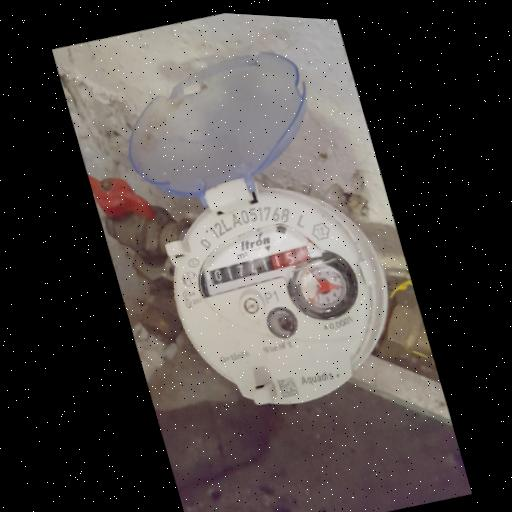0: (208, 266, 227, 287)
1: (268, 251, 286, 271), (257, 253, 274, 273), (294, 244, 311, 264), (222, 263, 238, 282)
4: (244, 257, 262, 277)
5: (280, 247, 301, 269)
7: (233, 259, 250, 279)
border_water_meter_number: (206, 238, 315, 292)
